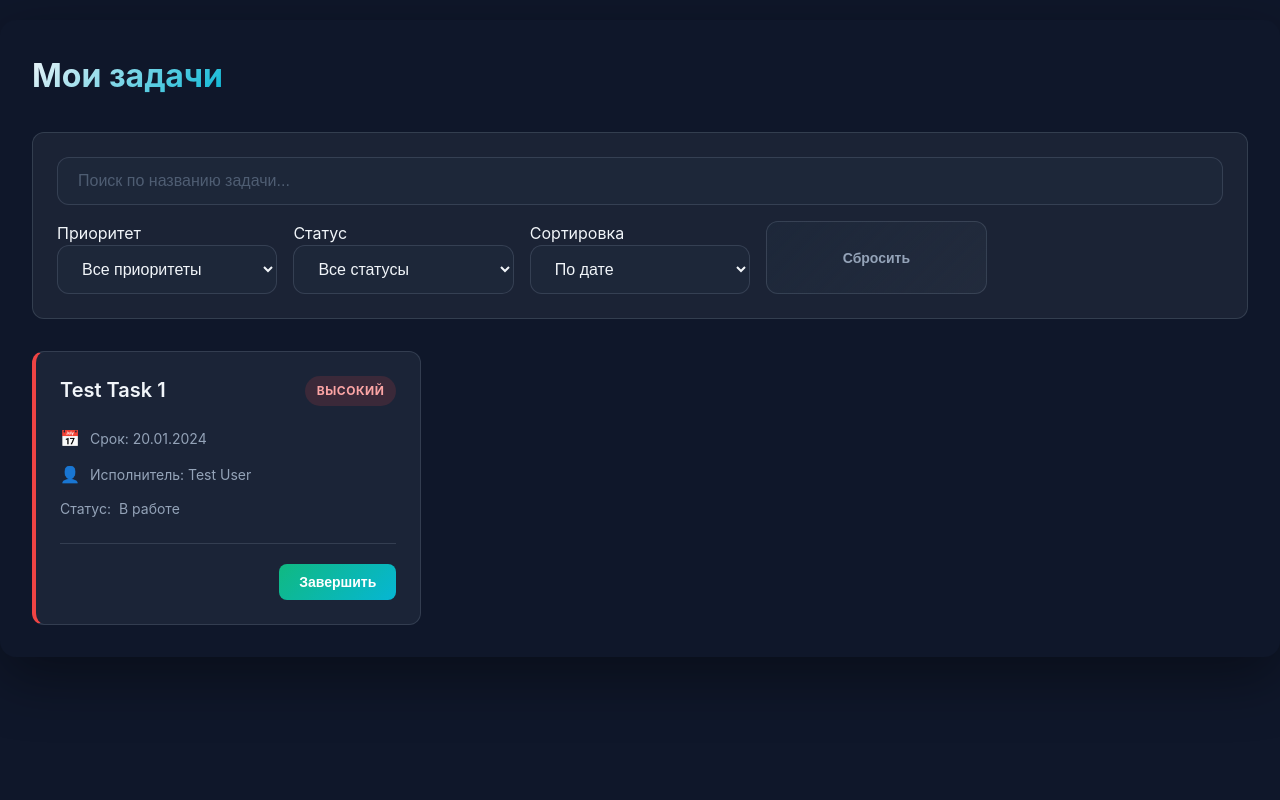
Test: TaskList Component › клик по задаче открывает модальное окно
The width and height of the screenshot is (1280, 800).
Expected: the heading "Test Task 1" is shown, [60,378,166,402]
Step 1. Click the button "Test Task 1" → x=113, y=390, box [32,351,421,625]
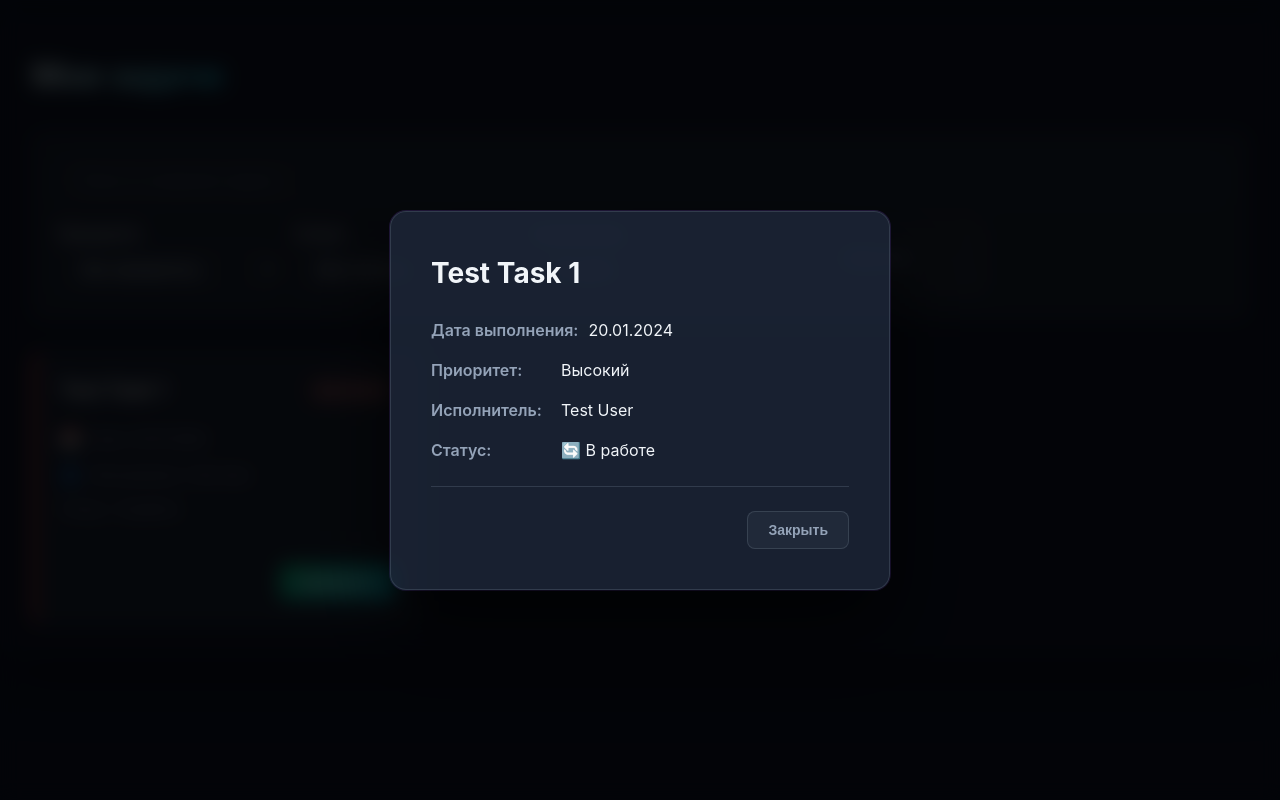
Result: the text "Дата выполнения:" is shown at [431,318,578,342]
